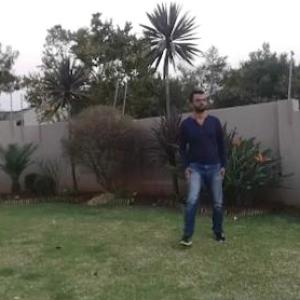follow: (172, 76, 235, 268)
